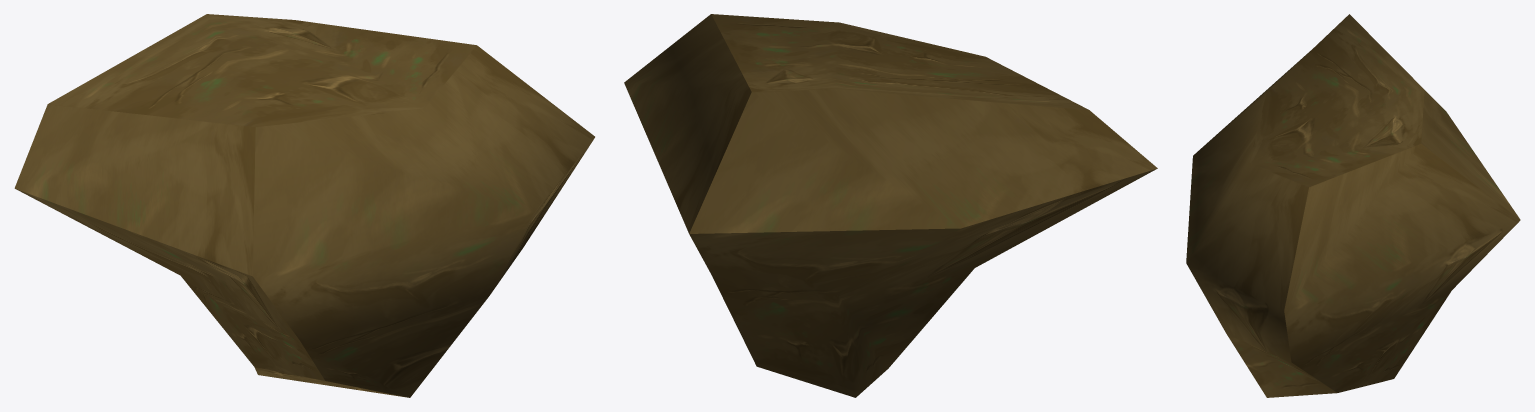
Rendered from floatingRock1.fbx.
3 renders of one model, left to right at view 1: azimuth 30°, elevation 25°; view 2: azimuth 150°, elevation 25°; view 3: azimuth 270°, elevation 25°, orthographic. The views are drawn at different scales.
Parts seen in each view (by area): view 1: Box088; view 2: Box088; view 3: Box088.
Boxes of the visible parts, x1=… form: Box088: x1=14, y1=14, x2=594, y2=397; Box088: x1=624, y1=14, x2=1157, y2=397; Box088: x1=1186, y1=14, x2=1520, y2=397.
Bounding box in the file's own units: 17.77 × 10.32 × 11.62.
1 material, 1 textured.
